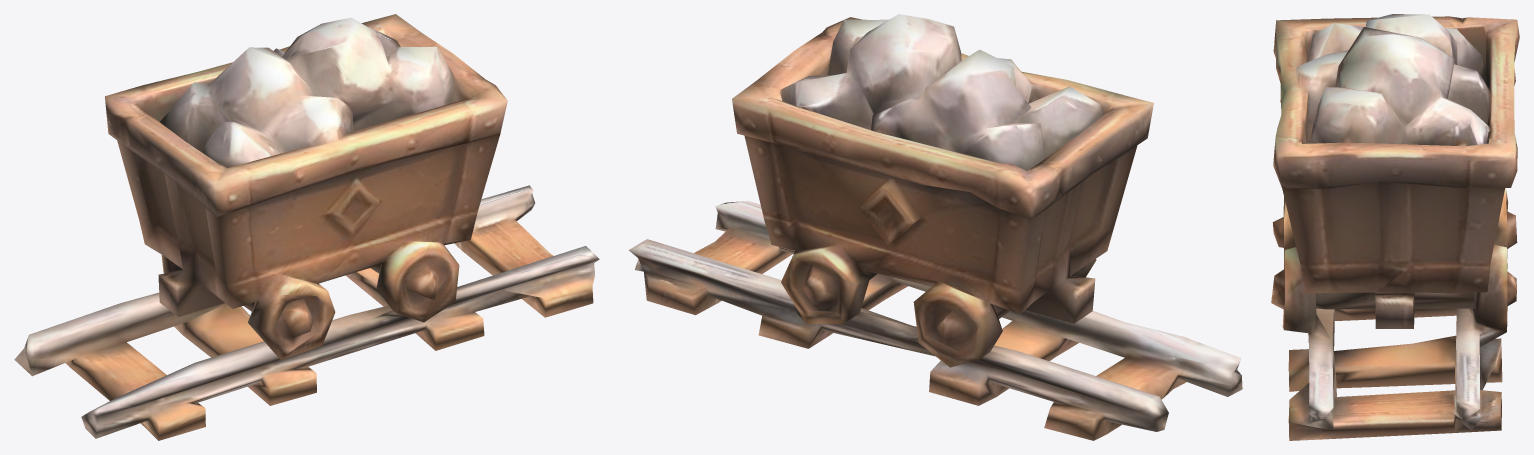
File: mine_cart.glb
The picture shows the model from 3 angles, left to right: view 1: azimuth 30°, elevation 25°; view 2: azimuth 150°, elevation 25°; view 3: azimuth 270°, elevation 25°; orthographic projection. The views are drawn at different scales.
Parts seen in each view (by area): view 1: mine_cart; view 2: mine_cart; view 3: mine_cart.
Part boxes in pixels (x1,y1,x2,y2): mine_cart: (14, 14, 599, 440); mine_cart: (628, 14, 1242, 440); mine_cart: (1271, 14, 1519, 440).
Bounding box in the file's own units: 1.65 × 1 × 0.6602.
1 material, 1 textured.
